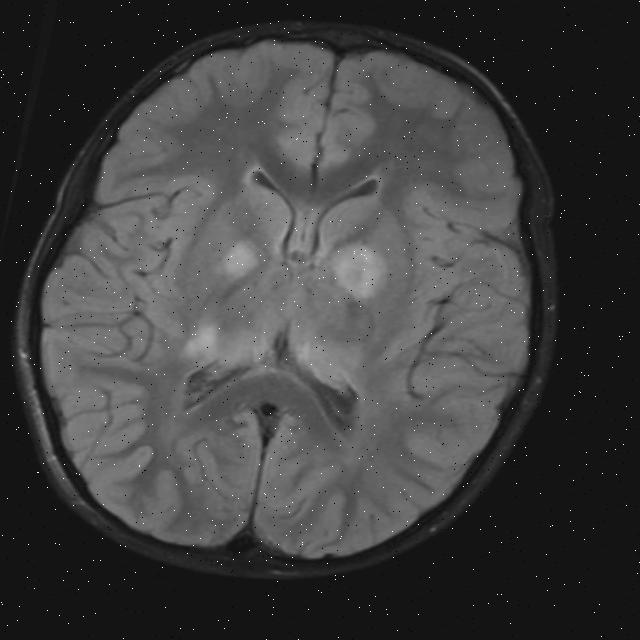NoTumor: (0, 0, 613, 636)
